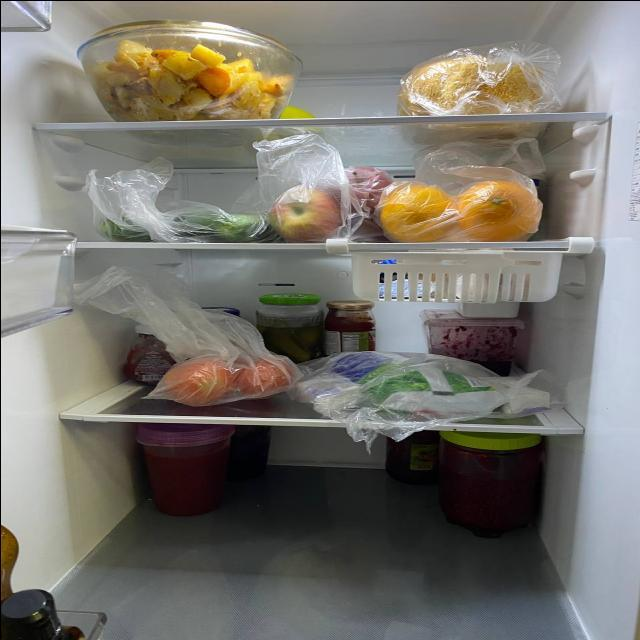Apple: (276, 186, 342, 241), (333, 165, 383, 199)
Cucumber: (94, 206, 208, 241), (206, 214, 282, 241)
Orange: (369, 182, 464, 245), (456, 182, 534, 234)
Tomato: (167, 360, 234, 399), (238, 358, 292, 394)
